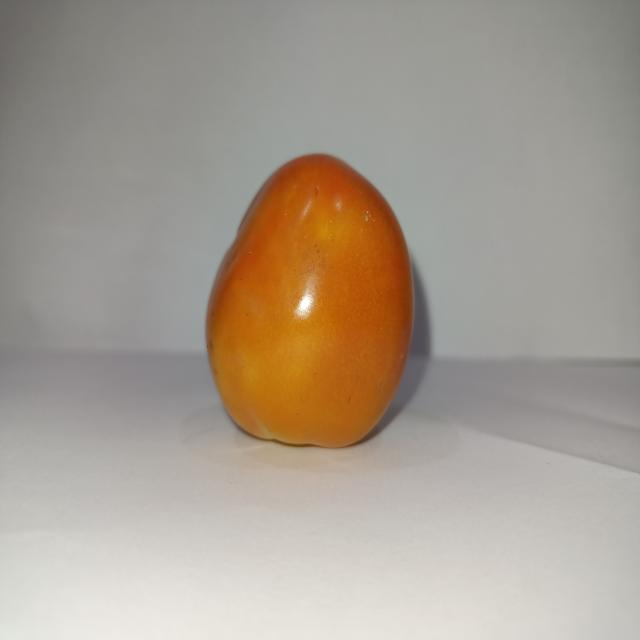Red: (203, 151, 415, 449)
